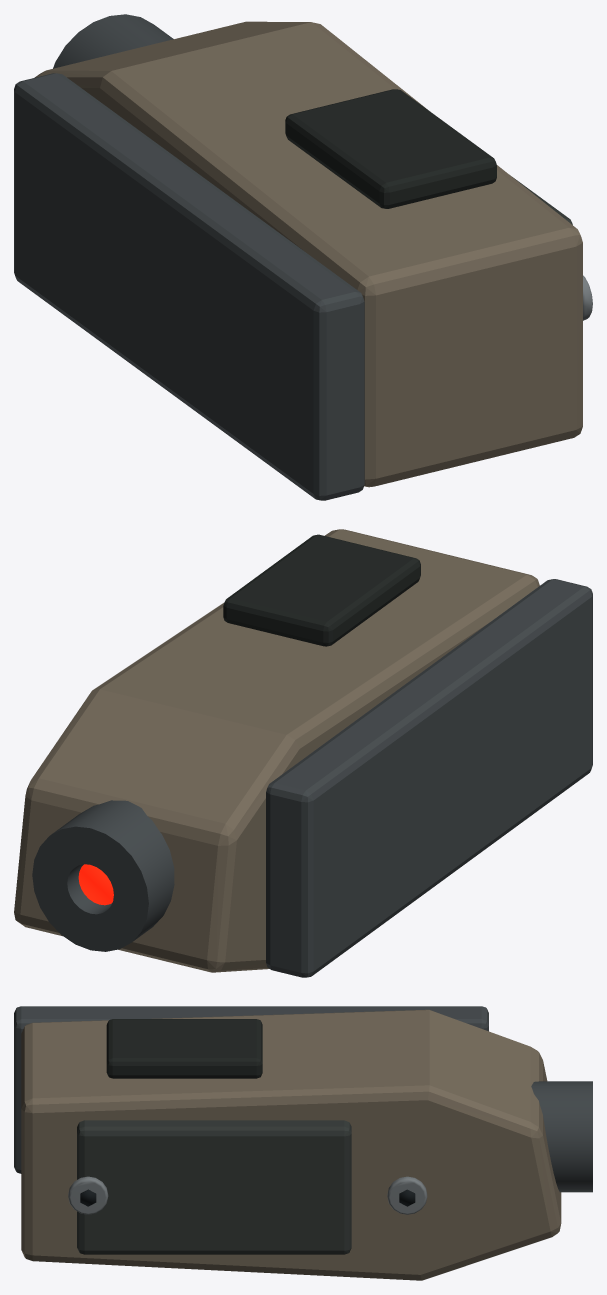
The model's file is laser.glb.
3 renders of one model, top to bottom at view 1: azimuth 30°, elevation 25°; view 2: azimuth 150°, elevation 25°; view 3: azimuth 270°, elevation 25°, orthographic. The views are drawn at different scales.
Visible parts, largest first — view 1: laser_Emitter_case, laser_metal, laser_Rubber_switch; view 2: laser_metal, laser_Emitter_case, laser_Rubber_switch, laser_Emitter_glass; view 3: laser_Emitter_case, laser_Battery_lid, laser_metal, laser_Rubber_switch, laser_steel, laser_recess.
Part boxes in pixels (box(x1,y1,x2,y2)): laser_Emitter_case: box(34, 21, 582, 487); laser_metal: box(14, 14, 364, 500); laser_Rubber_switch: box(285, 89, 496, 208); laser_metal: box(32, 579, 592, 977); laser_Emitter_case: box(14, 529, 539, 972); laser_Rubber_switch: box(223, 534, 420, 646); laser_Emitter_glass: box(78, 864, 113, 905); laser_Emitter_case: box(21, 1009, 561, 1280); laser_Battery_lid: box(77, 1120, 351, 1254); laser_metal: box(14, 1006, 592, 1192); laser_Rubber_switch: box(106, 1019, 262, 1078); laser_steel: box(68, 1176, 427, 1214); laser_recess: box(80, 1189, 415, 1206).
Size of the model in its own units: 0.0375 by 0.0315 by 0.078.
